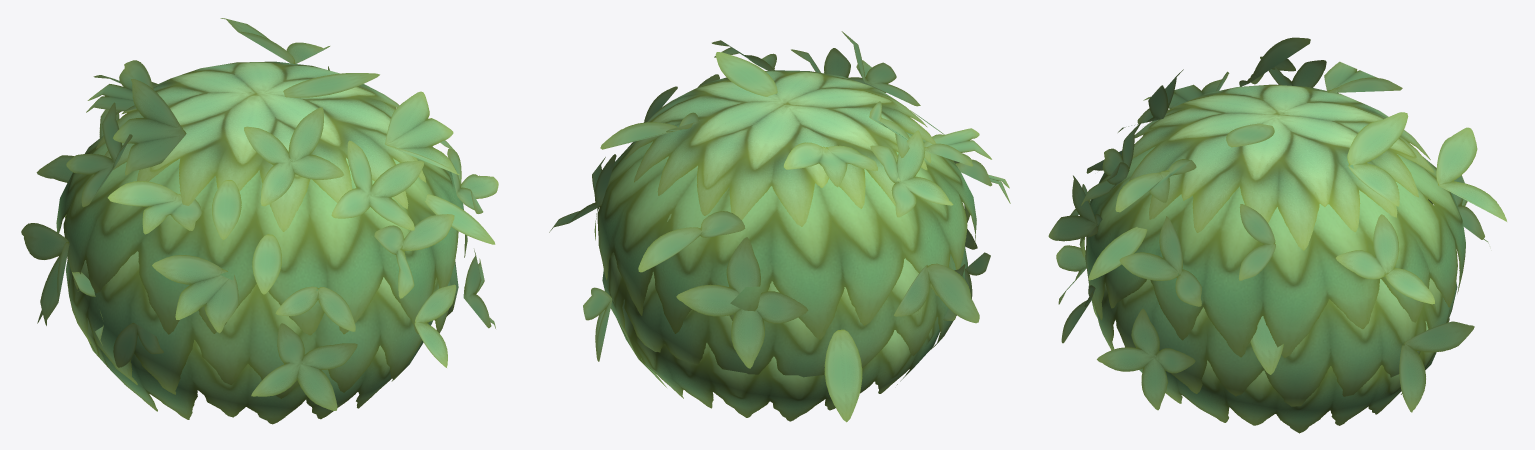
File: SM_BushFull_UnityExport.fbx
3 views of the same model, side by side, from view 1: azimuth 30°, elevation 25°; view 2: azimuth 150°, elevation 25°; view 3: azimuth 270°, elevation 25° (orthographic). The views are drawn at different scales.
Visible parts, largest first — view 1: pSphere23; view 2: pSphere23; view 3: pSphere23.
Part boxes in pixels (x1,y1,x2,y2): pSphere23: (21, 18, 498, 424); pSphere23: (549, 31, 1010, 422); pSphere23: (1048, 37, 1506, 433).
Size of the model in its own units: 44.64 by 36.02 by 46.77.
1 material, 1 textured.
